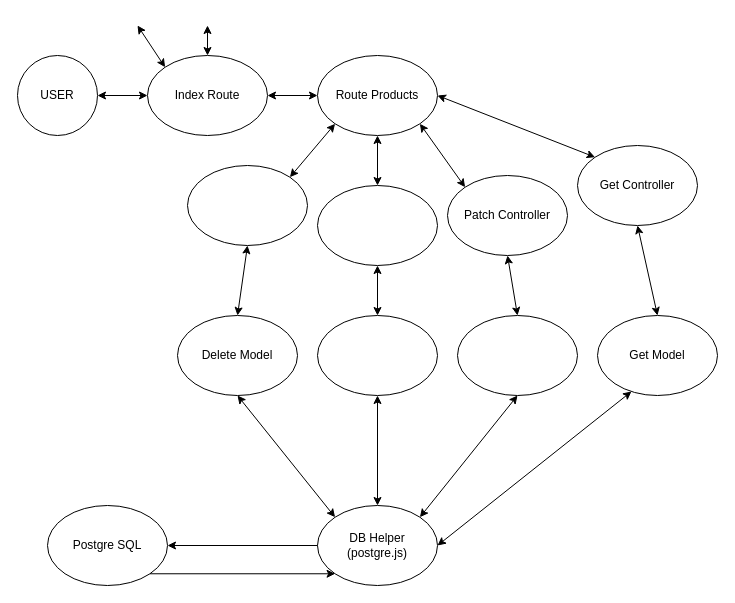
Some shapes in this 735 by 603 pixel diagram are drawn without their labels. The shapes that lost their labels are listed below. From the top down, each one's centre as x and y in pixels, then its label:
point 247,205: Delete Controller
point 377,225: Post Controller
point 377,355: Post Model
point 517,355: Patch Model
